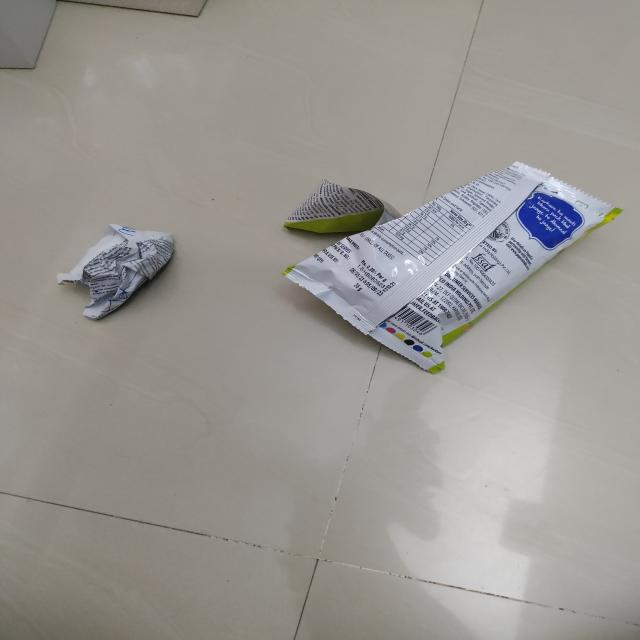dry: (264, 167, 627, 358), (64, 226, 186, 320)
